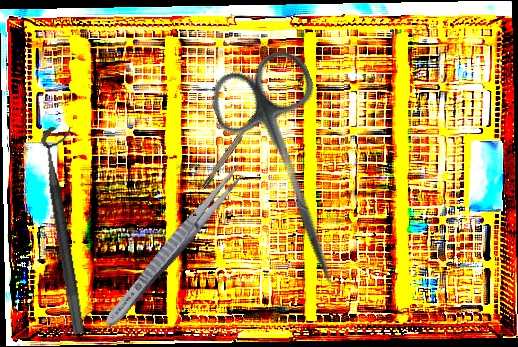Dressing Forceps: (100, 160, 249, 332)
Fixation Ring: (39, 124, 103, 335)
Hook Surgical: (200, 100, 268, 190)
Iris Scissors: (202, 44, 383, 300)
